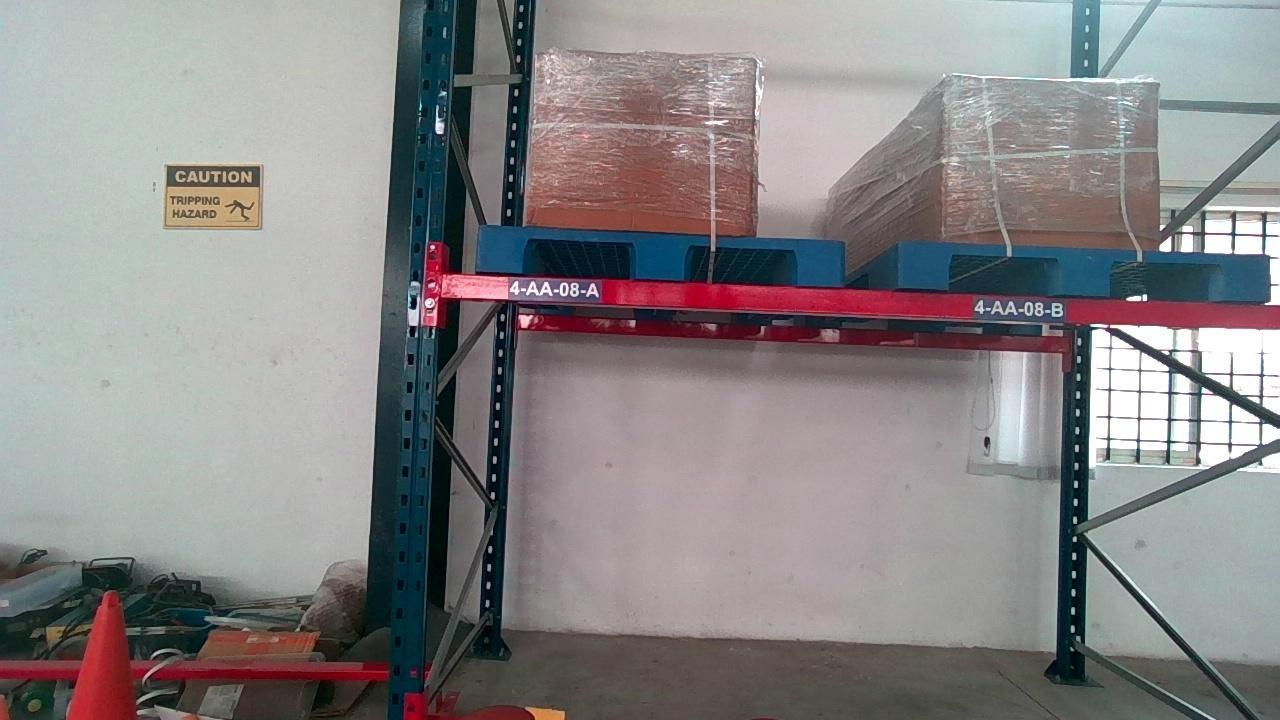h_rack: (443, 272, 1280, 329), (444, 276, 1280, 329)
small_pallet: (902, 245, 1264, 296), (477, 230, 845, 279)
